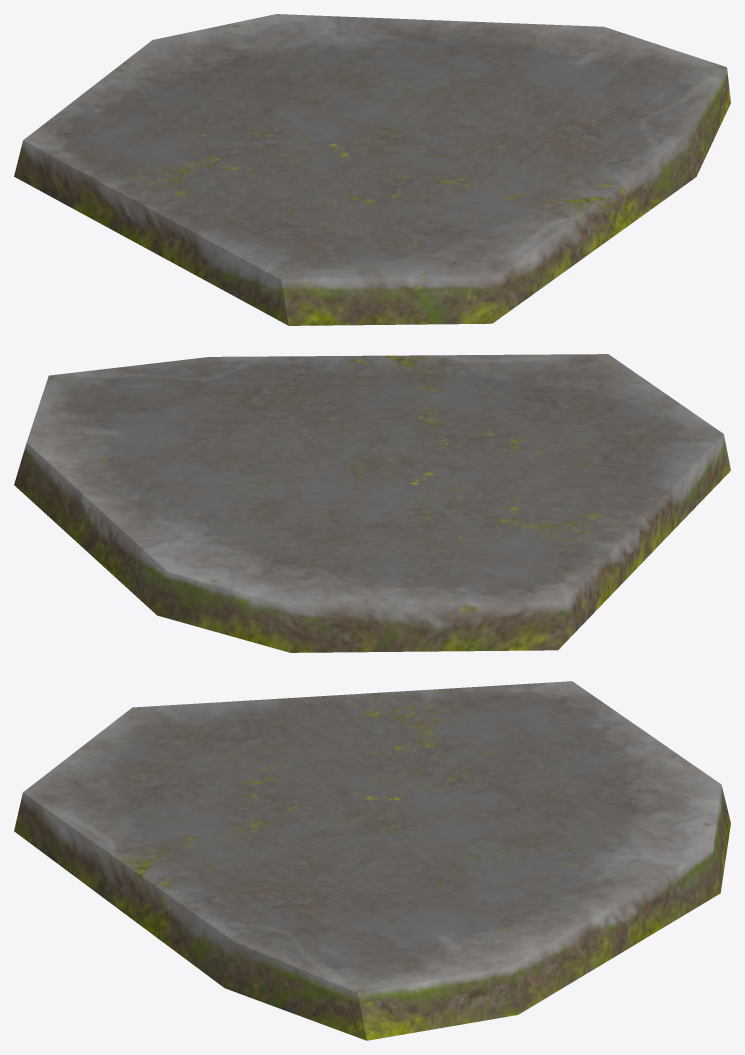
The model's file is ROK0210006.fbx.
3 renders of one model, top to bottom at view 1: azimuth 30°, elevation 25°; view 2: azimuth 150°, elevation 25°; view 3: azimuth 270°, elevation 25°, orthographic. The views are drawn at different scales.
Parts seen in each view (by area): view 1: smROK0210006; view 2: smROK0210006; view 3: smROK0210006.
Part boxes in pixels (x1=…): smROK0210006: x1=14, y1=14, x2=730, y2=325; smROK0210006: x1=14, y1=354, x2=730, y2=652; smROK0210006: x1=14, y1=681, x2=730, y2=1040.
Bounding box in the file's own units: 156 × 10 × 149.
